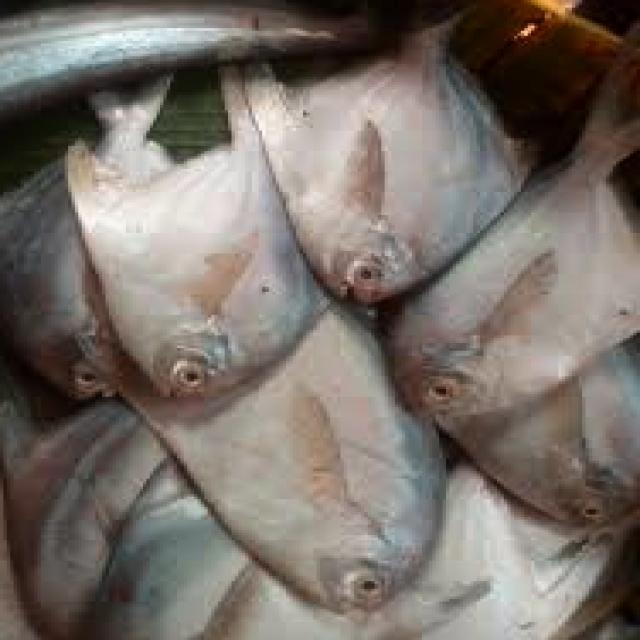pomfred: (76, 305, 440, 615), (387, 8, 640, 422)
